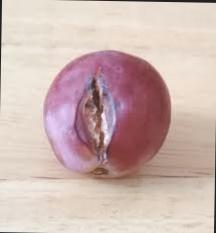Grape Rotten: (41, 47, 173, 179)
